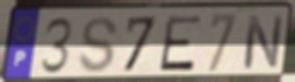3: (39, 16, 75, 76)
7: (123, 14, 161, 75), (206, 11, 241, 74)
E: (157, 14, 204, 74)
N: (241, 14, 285, 71)
S: (77, 15, 121, 75)
